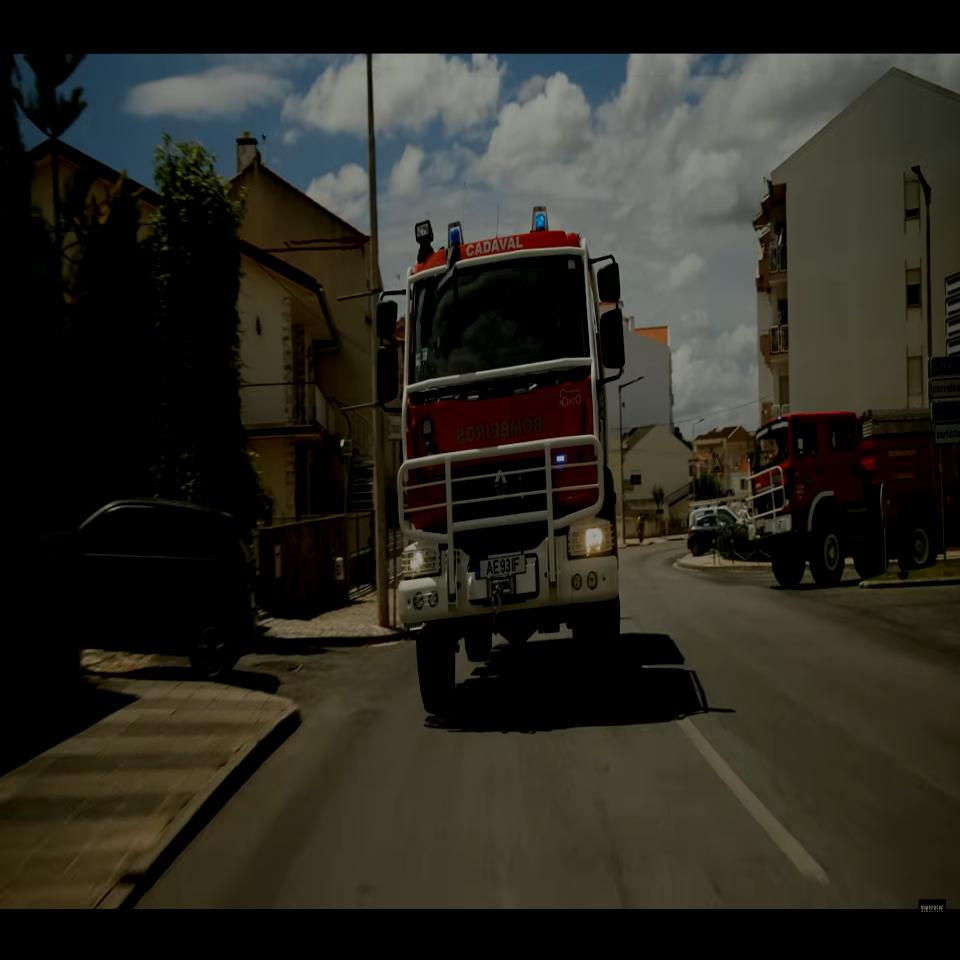bombeiro: (373, 218, 631, 711), (744, 408, 960, 587)
